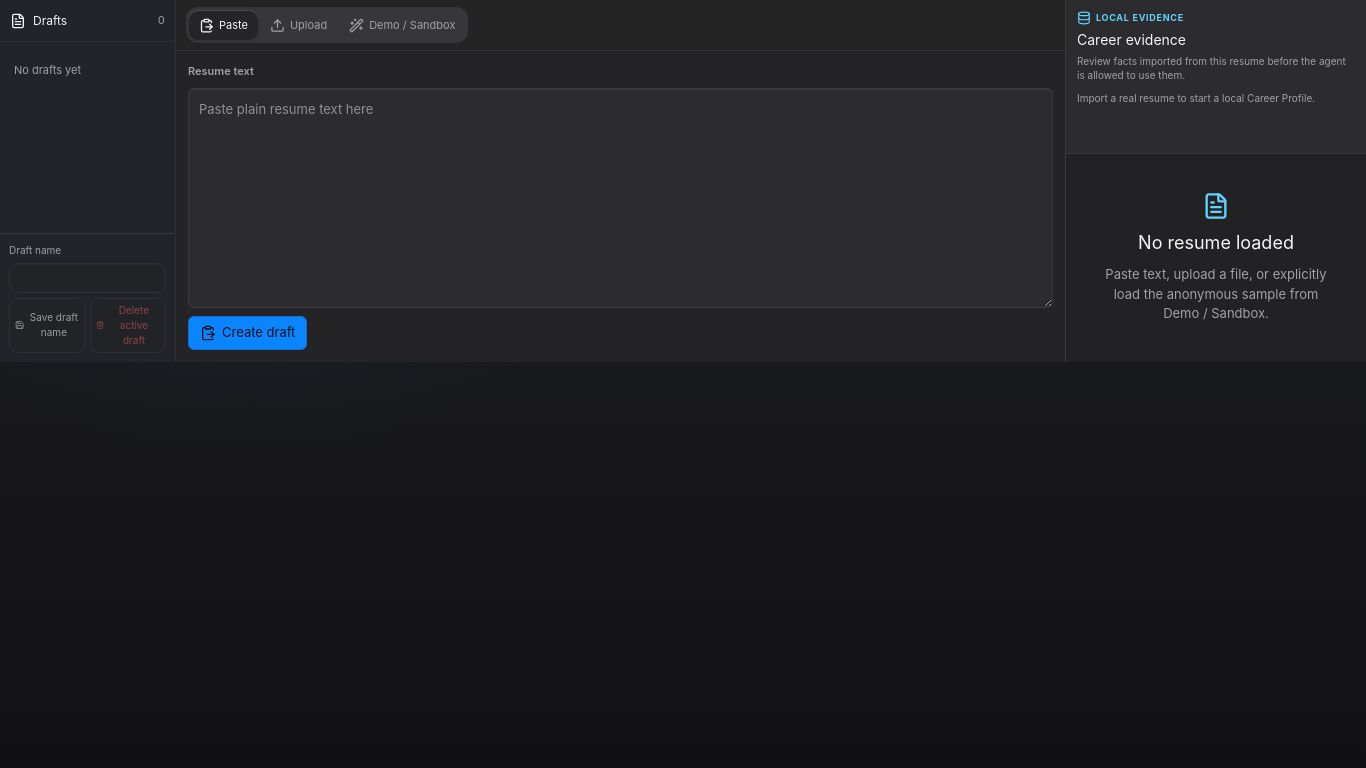
Test: ResumeStudioApp › loads the fictional sample only after an explicit local action
The width and height of the screenshot is (1366, 768).
Step 1. Click the tab "Demo / Sandbox" → (402, 25), box [339,10,465,40]
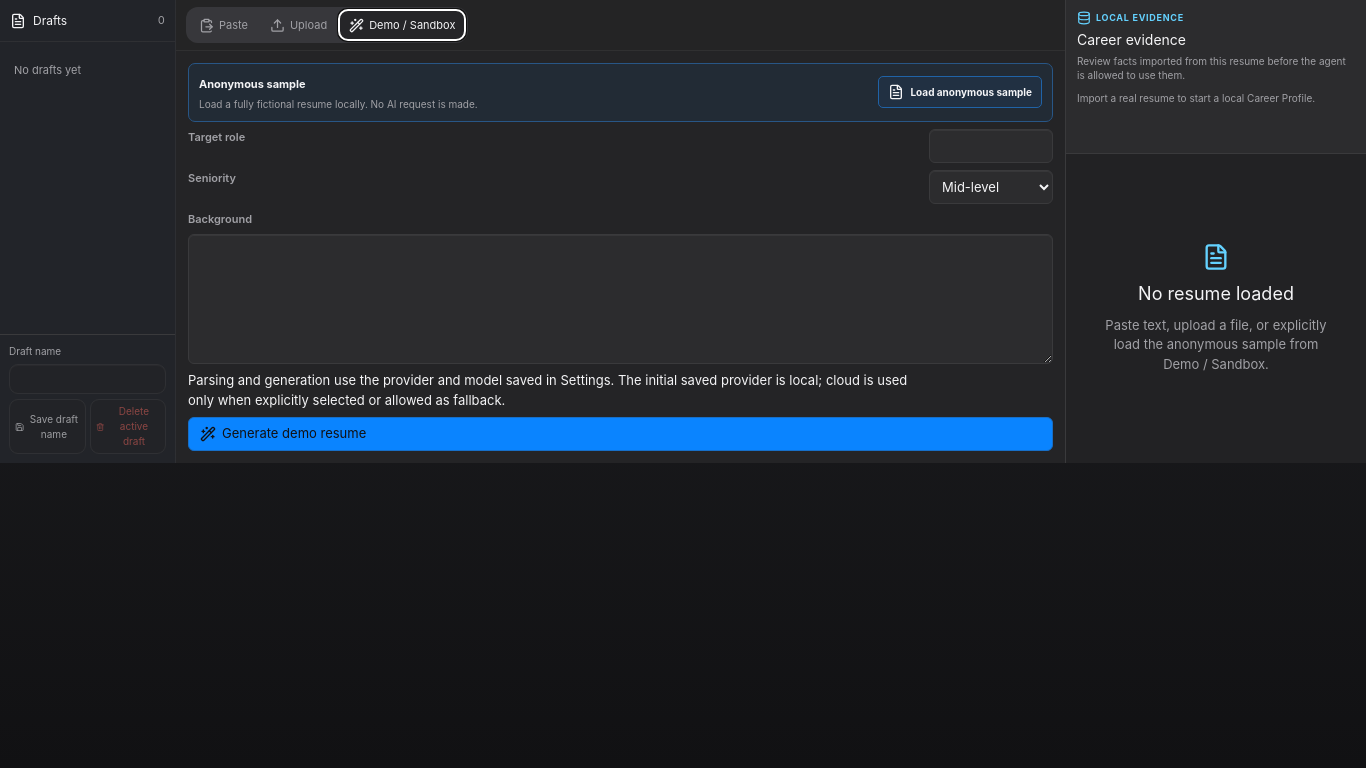
Expected: the text "Demo Candidate" is not shown
Step 2. Click the button "Load anonymous sample" → (960, 92), box [878,76,1042,108]
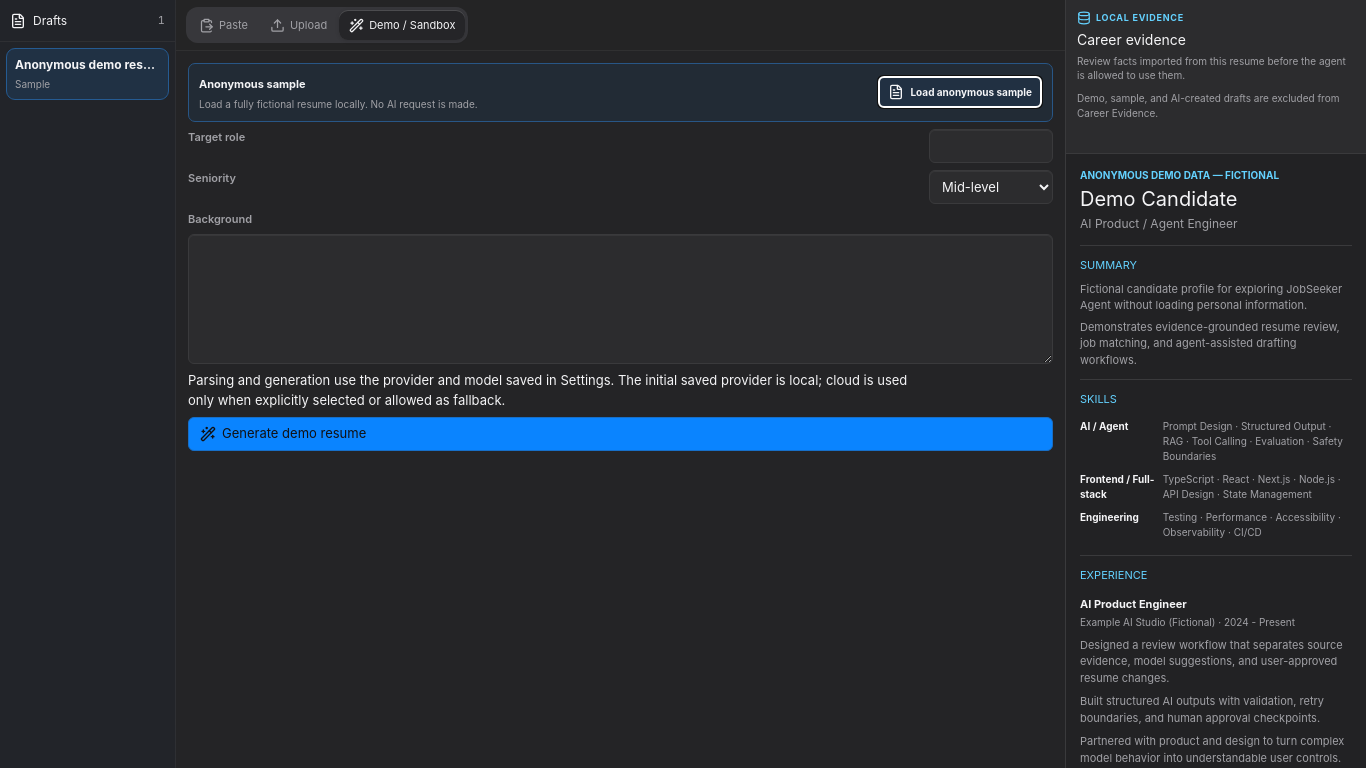
Expected: the heading "Demo Candidate" is shown, [1080,187,1238,211]
Expected: the text "Anonymous demo data — fictional" is shown, [1080,169,1279,181]
Expected: the button with aria-label "Open Anonymous demo resume" is shown, [6,48,169,100]
